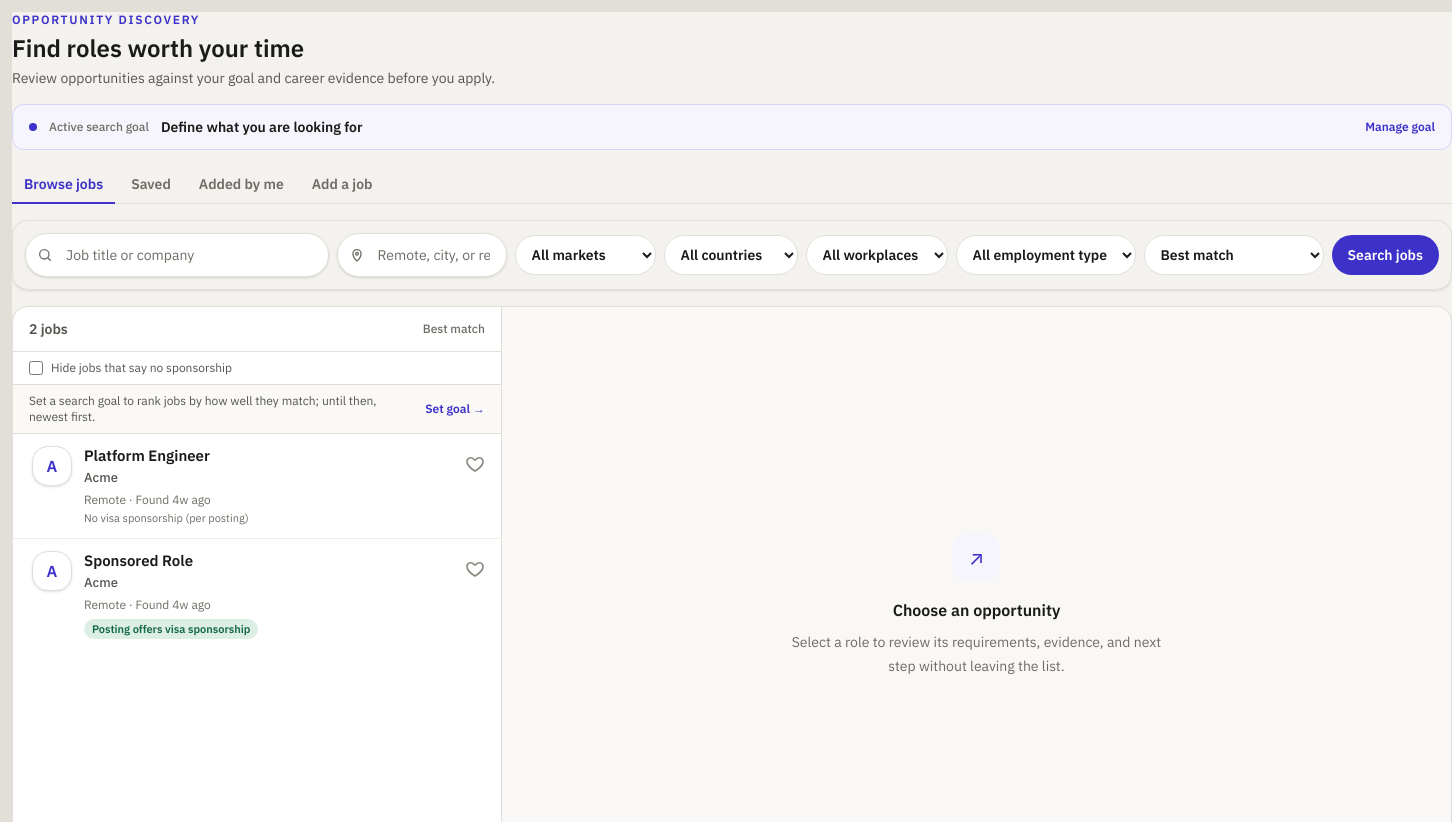
Test: DiscoverView › shows quoted sponsorship statements and can hide explicit refusals
The width and height of the screenshot is (1452, 822).
Expected: the text "Posting offers visa sponsorship" is shown, [84,618,258,639]
Click the checkbox labelled "Hide jobs that say no sponsorship".
click(36, 368)  # box [29,361,43,375]
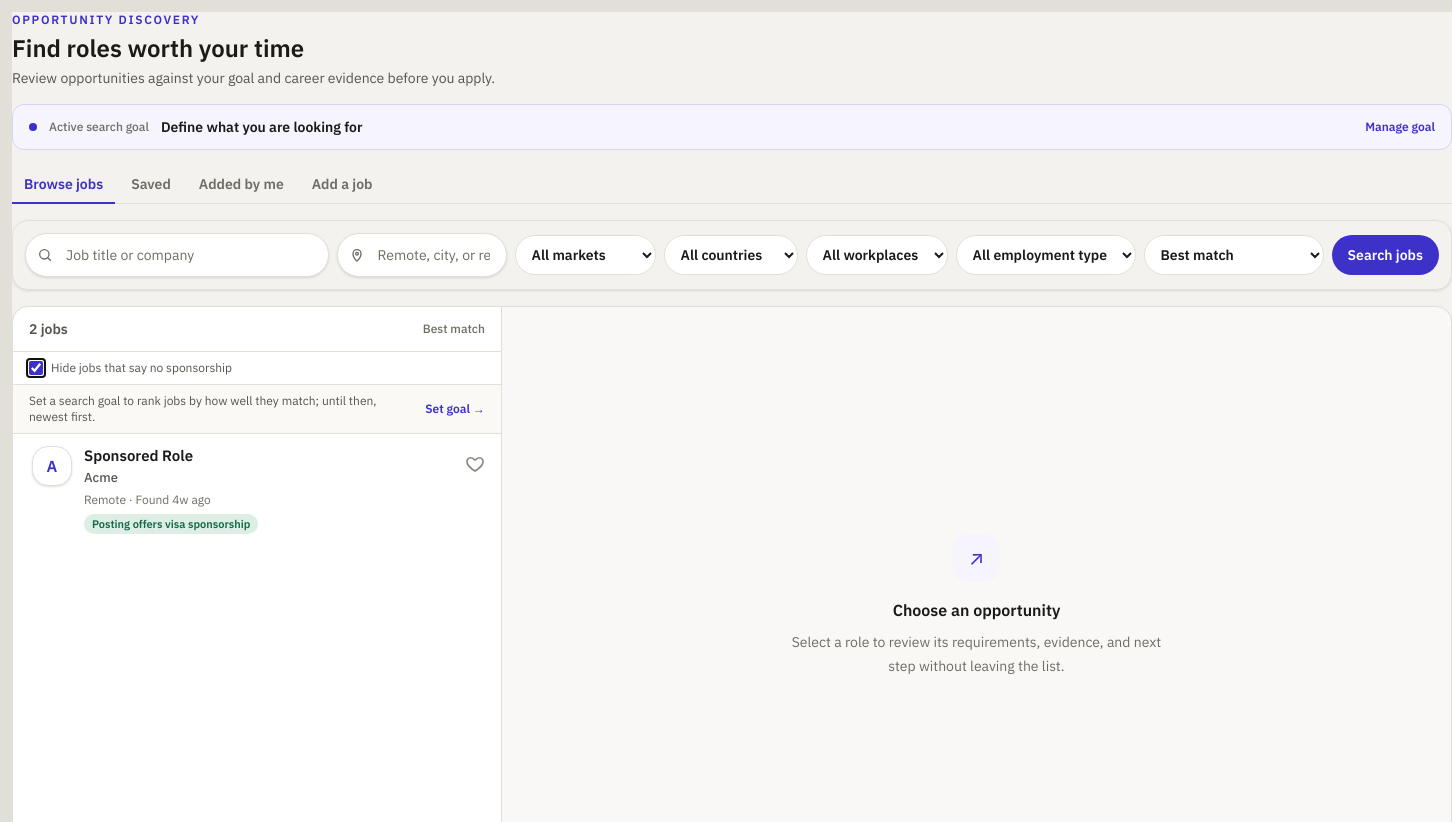
Expected: the text "Sponsored Role" is shown, [84,446,193,465]
Expected: the button "Platform Engineer" is gone
